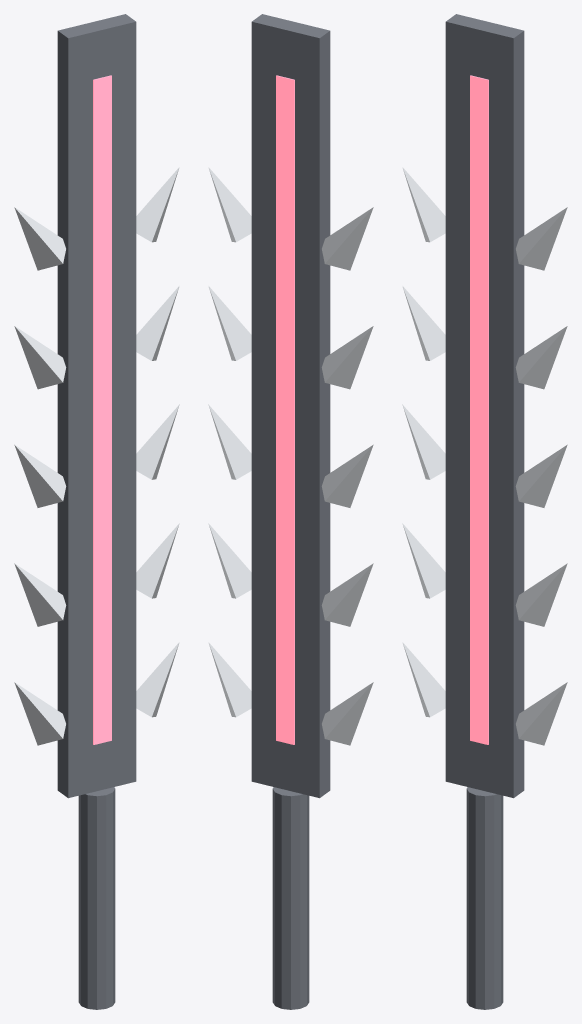
The model's file is sword_of_destruction.glb.
3 renders of one model, left to right at view 1: azimuth 30°, elevation 25°; view 2: azimuth 150°, elevation 25°; view 3: azimuth 330°, elevation 25°, orthographic.
Visible parts, largest first — view 1: Cube, Cube.001, Cylinder, Cone.006, Cone.004, Cone, Cone.002, Cone.008, Cone.009, Cone.001, Cone.003, Cone.005 (+1 smaller); view 2: Cube, Cube.001, Cylinder, Cone.006, Cone.004, Cone, Cone.002, Cone.008, Cone.009, Cone.001, Cone.003, Cone.005 (+1 smaller); view 3: Cube, Cube.001, Cylinder, Cone.007, Cone.005, Cone.001, Cone.003, Cone.009, Cone.008, Cone, Cone.002, Cone.004 (+1 smaller).
Part boxes in pixels (<box>): Cube: <box>57,14,136,798</box>; Cube.001: <box>93,75,111,744</box>; Cylinder: <box>78,787,115,1009</box>; Cone.006: <box>14,326,66,389</box>; Cone.004: <box>14,444,66,507</box>; Cone: <box>14,682,65,745</box>; Cone.002: <box>14,563,66,626</box>; Cone.008: <box>14,207,65,270</box>; Cone.009: <box>136,167,179,242</box>; Cone.001: <box>136,642,179,717</box>; Cone.003: <box>136,523,179,598</box>; Cone.005: <box>136,404,179,479</box>; Cube: <box>251,14,330,798</box>; Cube.001: <box>276,75,294,744</box>; Cylinder: <box>272,787,309,1009</box>; Cone.006: <box>321,326,373,389</box>; Cone.004: <box>321,444,373,507</box>; Cone: <box>322,682,373,745</box>; Cone.002: <box>321,563,373,626</box>; Cone.008: <box>322,207,373,270</box>; Cone.009: <box>208,167,251,242</box>; Cone.001: <box>208,642,251,717</box>; Cone.003: <box>208,523,251,598</box>; Cone.005: <box>208,404,251,479</box>; Cube: <box>445,14,524,798</box>; Cube.001: <box>470,75,488,744</box>; Cylinder: <box>466,787,503,1009</box>; Cone.007: <box>515,326,567,389</box>; Cone.005: <box>515,444,567,507</box>; Cone.001: <box>516,682,567,745</box>; Cone.003: <box>515,563,567,626</box>; Cone.009: <box>516,207,567,270</box>; Cone.008: <box>402,167,445,242</box>; Cone: <box>402,642,445,717</box>; Cone.002: <box>402,523,445,598</box>; Cone.004: <box>402,404,445,479</box>.
Size of the model in its own units: 0.3647 by 2.06 by 0.08.
